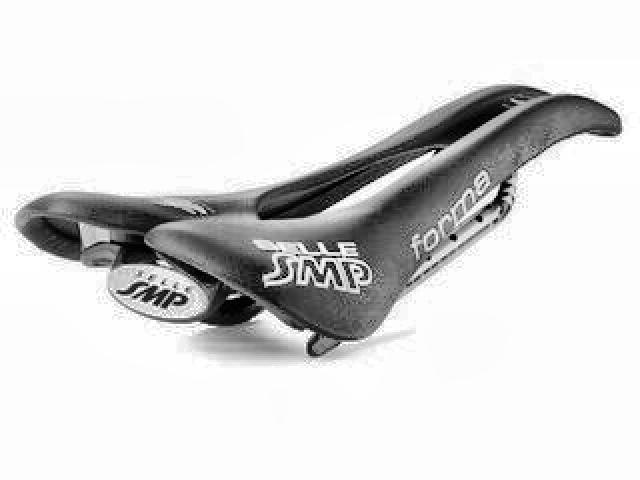saddle: (15, 76, 625, 362)
